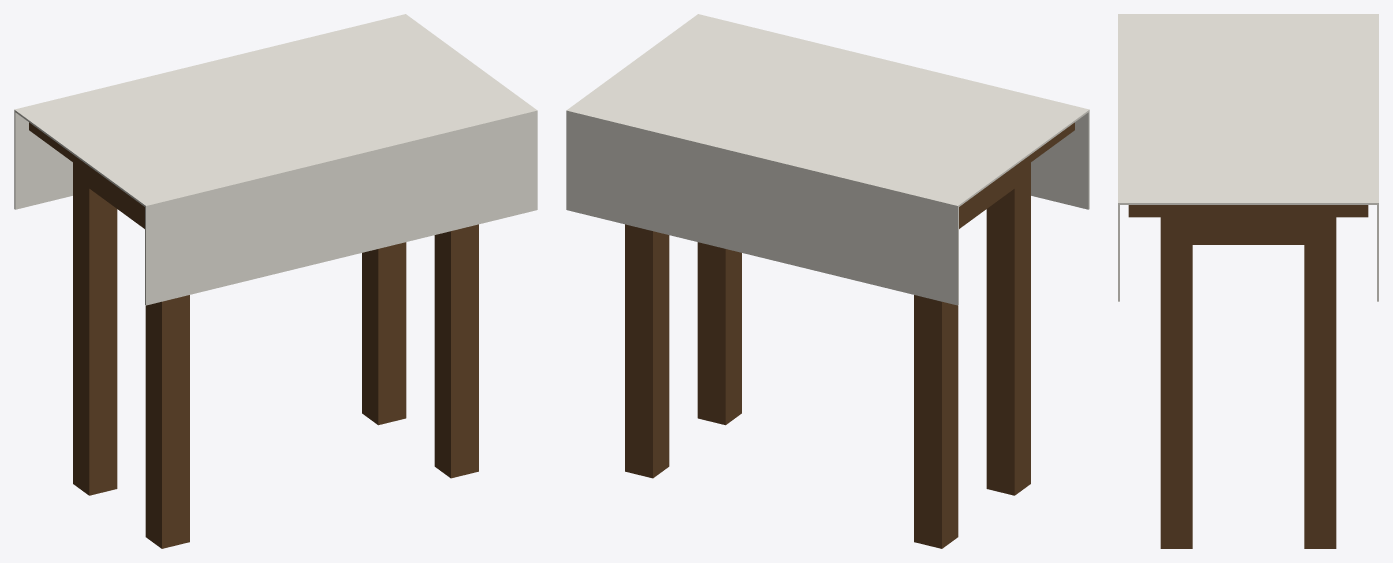
3 renders of one model, left to right at view 1: azimuth 30°, elevation 25°; view 2: azimuth 150°, elevation 25°; view 3: azimuth 270°, elevation 25°, orthographic.
Parts seen in each view (by area): view 1: parametric-variant-table-1st-pub-2e2b3a71e162ed60bd72; view 2: parametric-variant-table-1st-pub-2e2b3a71e162ed60bd72; view 3: parametric-variant-table-1st-pub-2e2b3a71e162ed60bd72.
Boxes of the visible parts, box(x1,y1,x2,y2) form: parametric-variant-table-1st-pub-2e2b3a71e162ed60bd72: box(14, 14, 537, 548); parametric-variant-table-1st-pub-2e2b3a71e162ed60bd72: box(566, 14, 1089, 548); parametric-variant-table-1st-pub-2e2b3a71e162ed60bd72: box(1118, 14, 1378, 548).
Size of the model in its own units: 0.84 by 0.754 by 0.49.
